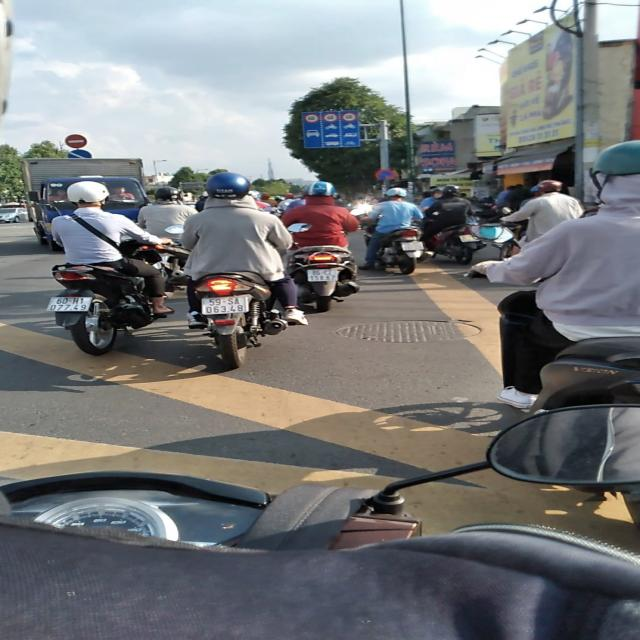Cam do: (375, 169, 397, 181)
Cam nguoc chieu: (64, 134, 88, 149)
Hieu lenh: (67, 149, 91, 163)
Toc do toi da: (341, 112, 357, 122), (304, 114, 320, 123), (322, 113, 338, 122)
